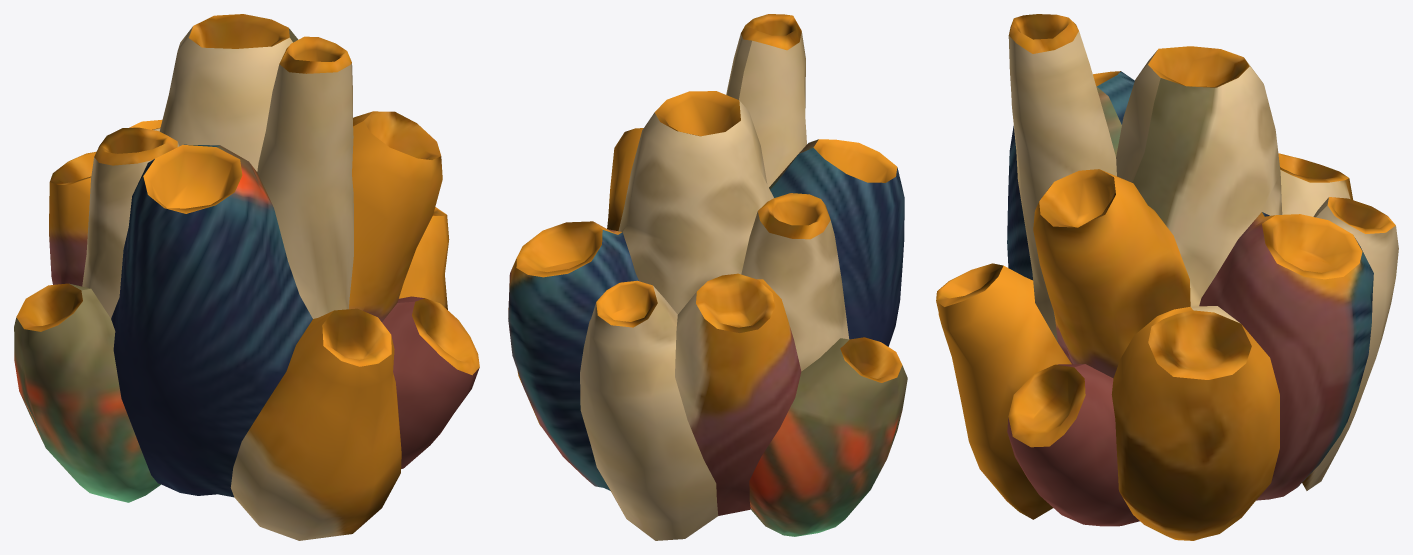
File: softcoral-02.glb
The picture shows the model from 3 angles, left to right: view 1: azimuth 30°, elevation 25°; view 2: azimuth 150°, elevation 25°; view 3: azimuth 270°, elevation 25°; orthographic projection. The views are drawn at different scales.
Visible parts, largest first — view 1: coral10; view 2: coral10; view 3: coral10.
Part boxes in pixels (x1,y1,x2,y2): coral10: (14, 14, 479, 540); coral10: (508, 14, 907, 540); coral10: (936, 14, 1398, 540).
Size of the model in its own units: 1.44 by 1.59 by 1.39.
Materials: 1 (1 with a texture image).
